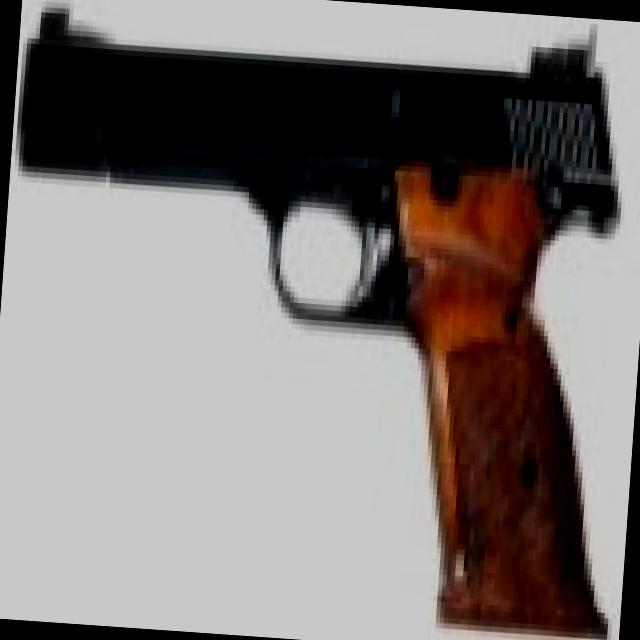handgun: (0, 6, 636, 634)
